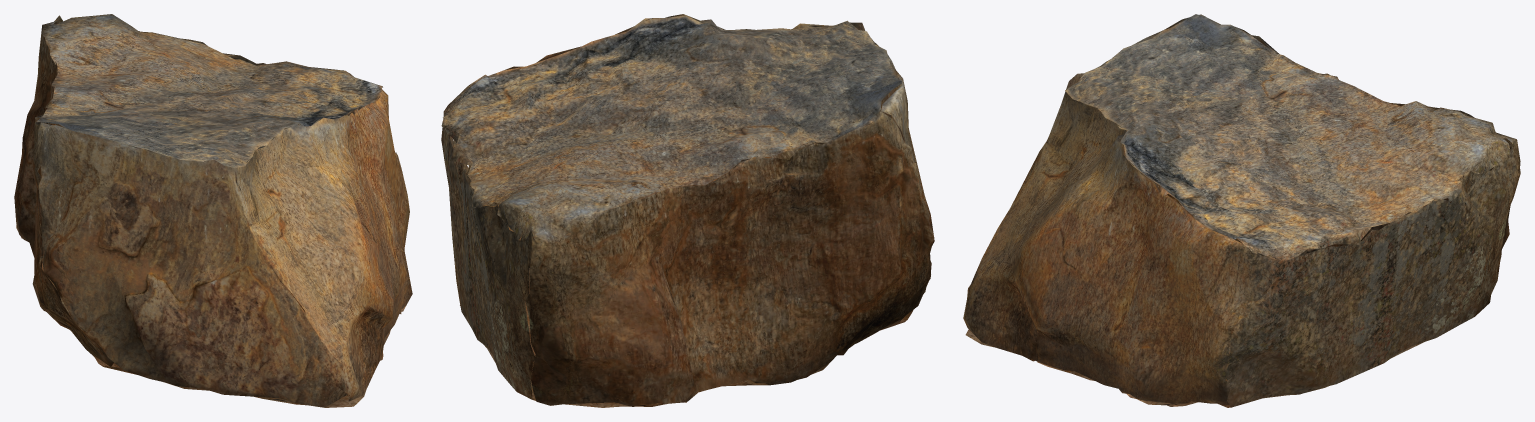
File: namaqualand_boulder_03_LOD2.fbx
3 renders of one model, left to right at view 1: azimuth 30°, elevation 25°; view 2: azimuth 150°, elevation 25°; view 3: azimuth 270°, elevation 25°, orthographic. The views are drawn at different scales.
Visible parts, largest first — view 1: namaqualand_boulder_03.001; view 2: namaqualand_boulder_03.001; view 3: namaqualand_boulder_03.001.
Part boxes in pixels (<box>): namaqualand_boulder_03.001: <box>14,14,412,407</box>; namaqualand_boulder_03.001: <box>441,14,934,407</box>; namaqualand_boulder_03.001: <box>963,14,1520,407</box>.
Size of the model in its own units: 2.43 by 1.47 by 3.07.
1 material, 1 textured.
